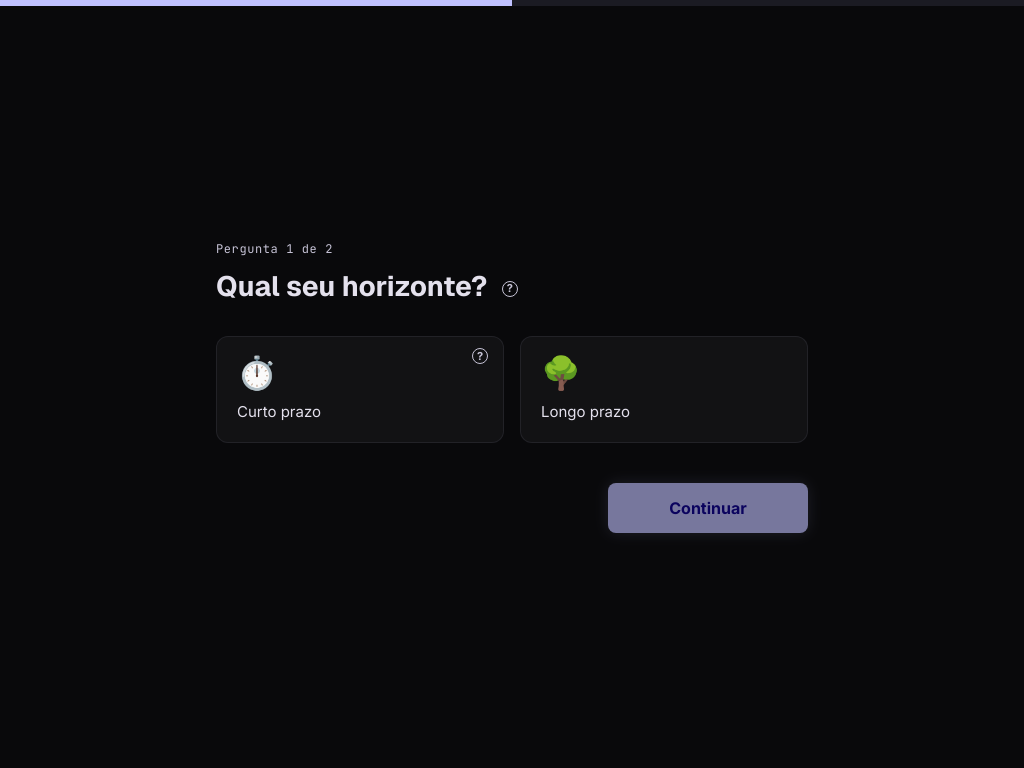
it: QuizComponent › abrir a ajuda de uma opção não deve selecionar a opção
This screenshot has width=1024, height=768.
Step 1. Click the 2nd button with class "ajuda__botao" → (480, 356), box [468,344,492,368]
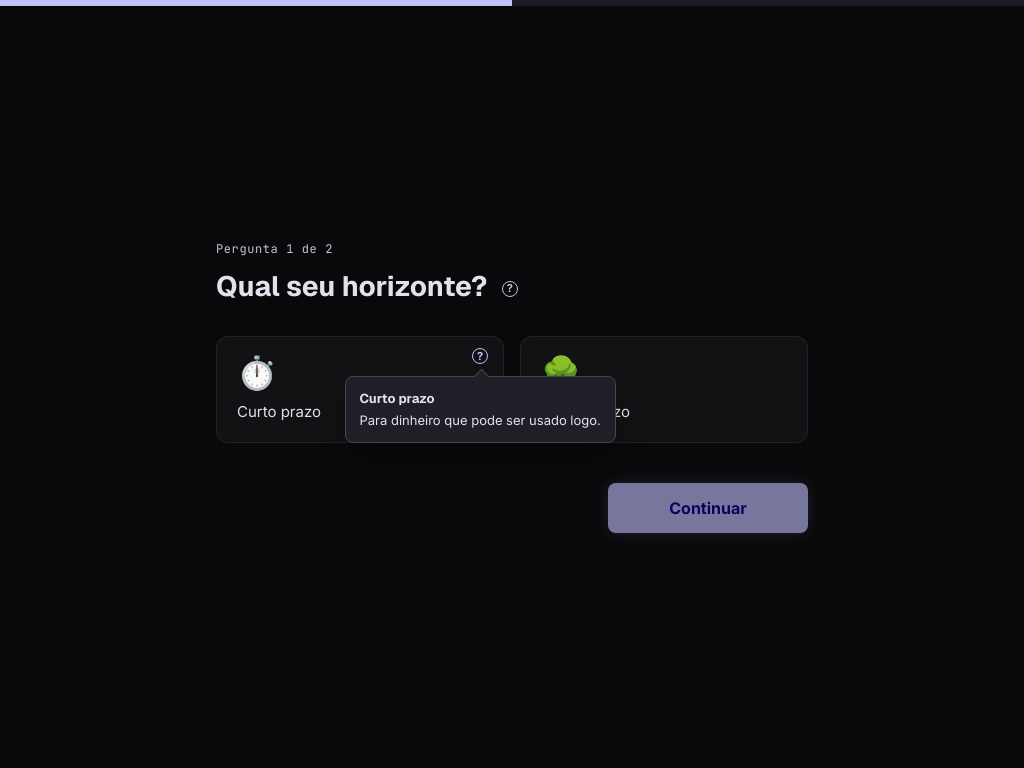
Expected: the button "Continuar" is disabled, [608,483,808,533]
Expected: the element with class "ajuda__balao" shows "Para dinheiro que pode ser usado logo.", [360,412,601,428]
